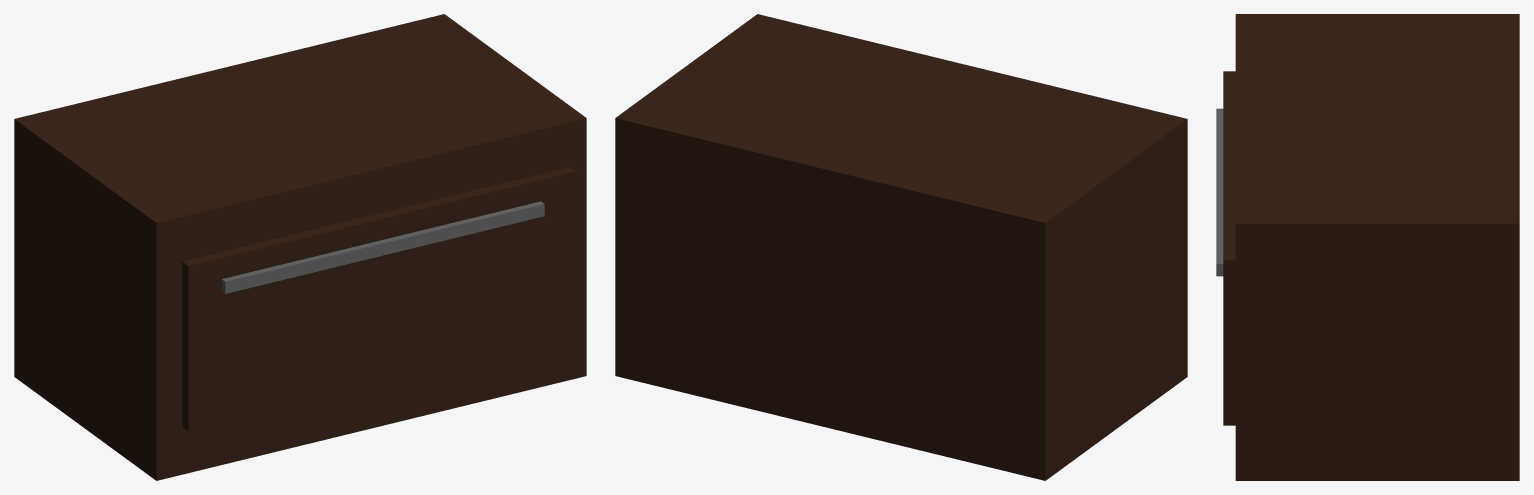
Rendered from dresser.fbx.
3 renders of one model, left to right at view 1: azimuth 30°, elevation 25°; view 2: azimuth 150°, elevation 25°; view 3: azimuth 270°, elevation 25°, orthographic.
Parts seen in each view (by area): view 1: Cube; view 2: Cube; view 3: Cube.
Part boxes in pixels (x1,y1,x2,y2): Cube: [14, 14, 586, 480]; Cube: [615, 14, 1187, 480]; Cube: [1216, 14, 1519, 480].
Size of the model in its own units: 654 by 374 by 400.
